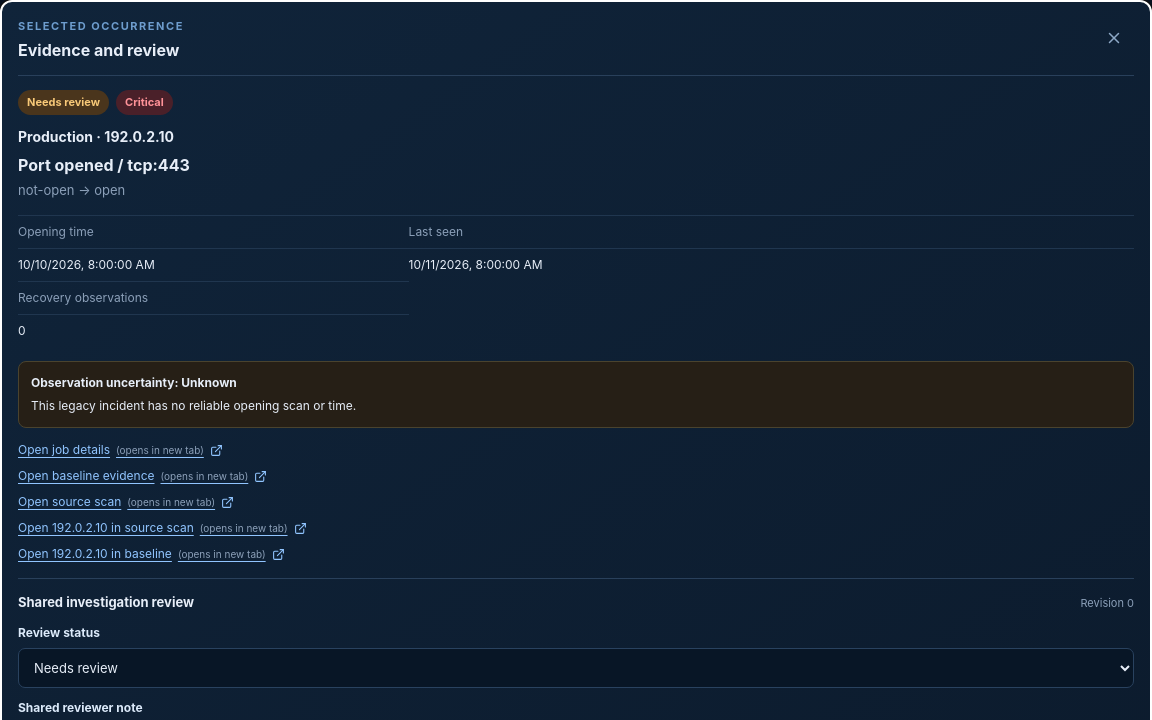
Test case: investigation inbox filters and context › opens evidence from a direct URL and closes without changing filters or page
This screenshot has width=1152, height=720.
(page scrolled)
Expected: the text "Observation uncertainty: Unknown" is shown, [31, 376, 237, 390]
Expected: the text "This legacy incident has no reliable opening scan or time." is shown, [31, 398, 356, 414]
Click the button named "Close evidence panel": {"x": 1114, "y": 38} [1094, 18, 1134, 58]
(page scrolled)
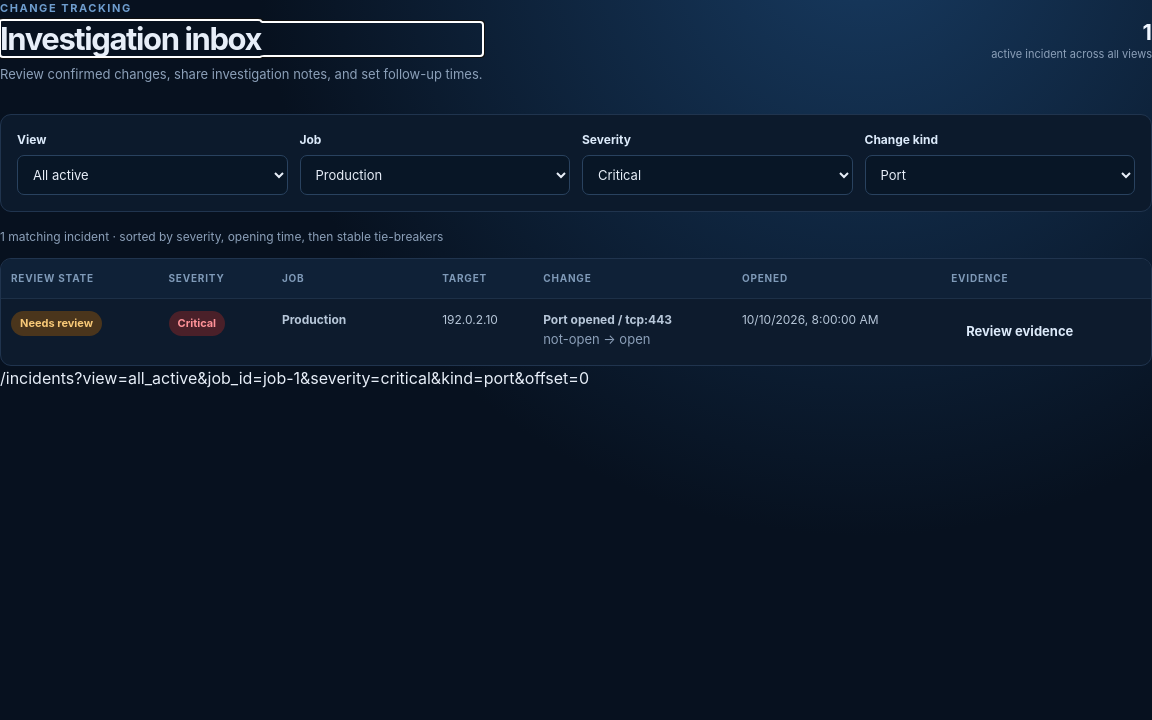
Expected: the heading "Evidence and review" is gone
